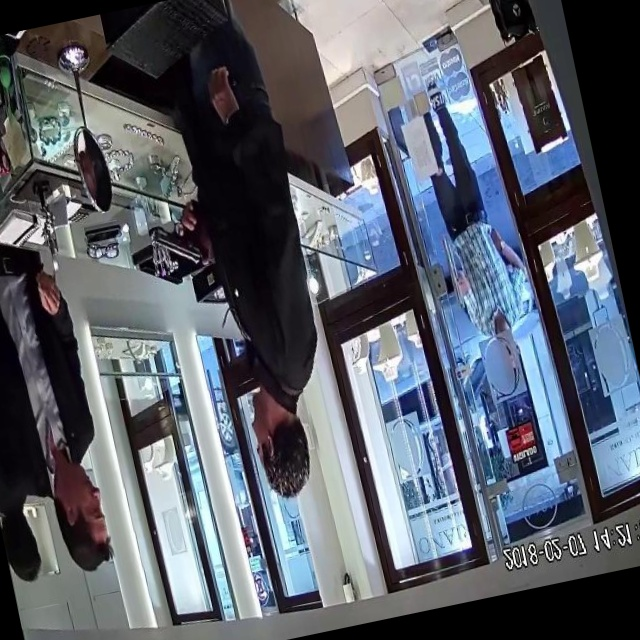gun: (133, 184, 221, 294)
